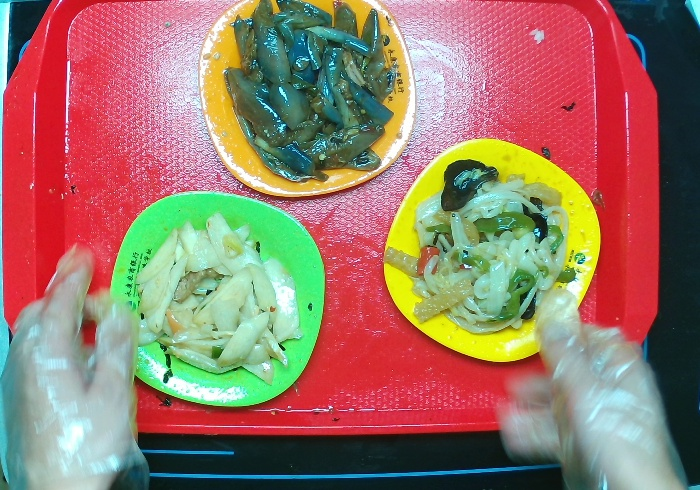YKMZ-Huang_Se_Fang_Die: (376, 140, 604, 369)
YKMZ-Ju_Se_Fang_Die: (197, 1, 415, 206)
YKMZ-Lv_Se_Fang_Die: (109, 187, 334, 406)
